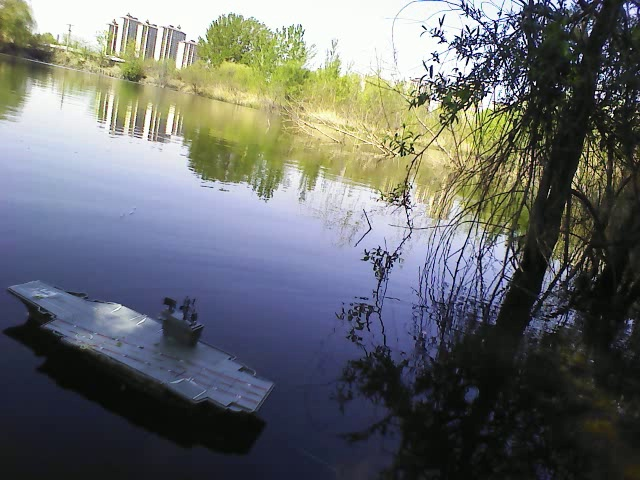aircraft_carrier: (6, 278, 276, 418)
